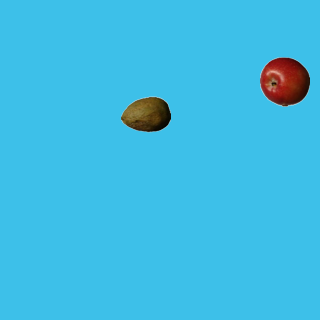Apple Braeburn: (259, 56, 309, 106)
Papaya: (120, 89, 170, 139)
